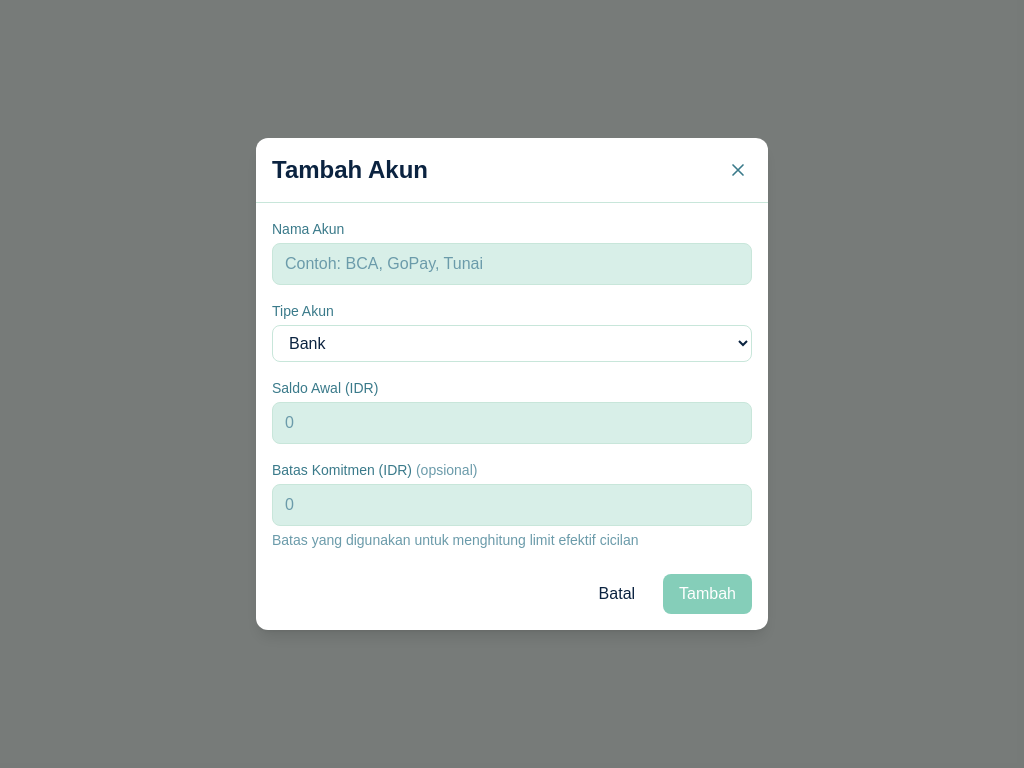
Test: AccountForm › shows target_amount field when dana_darurat type is selected
Select "Dana Darurat" in the dropdown labelled "Tipe Akun" at (512, 344), box [272,325,752,362]
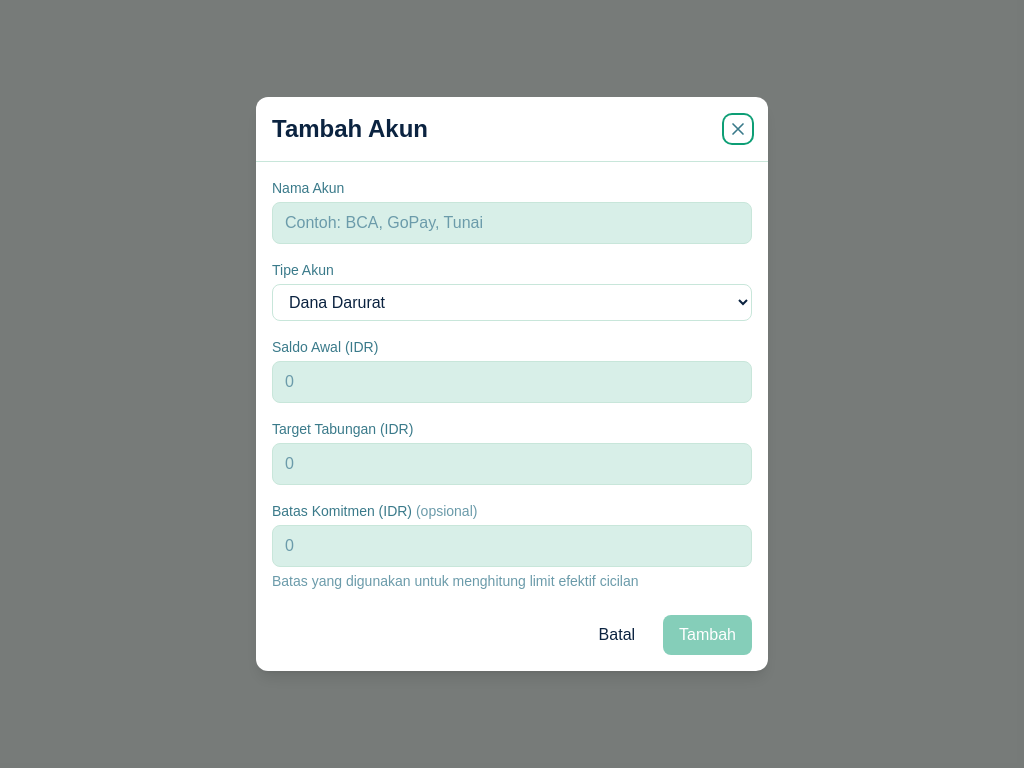
Expected: the number field labelled "Target Tabungan (IDR)" is shown, [272,443,752,485]
